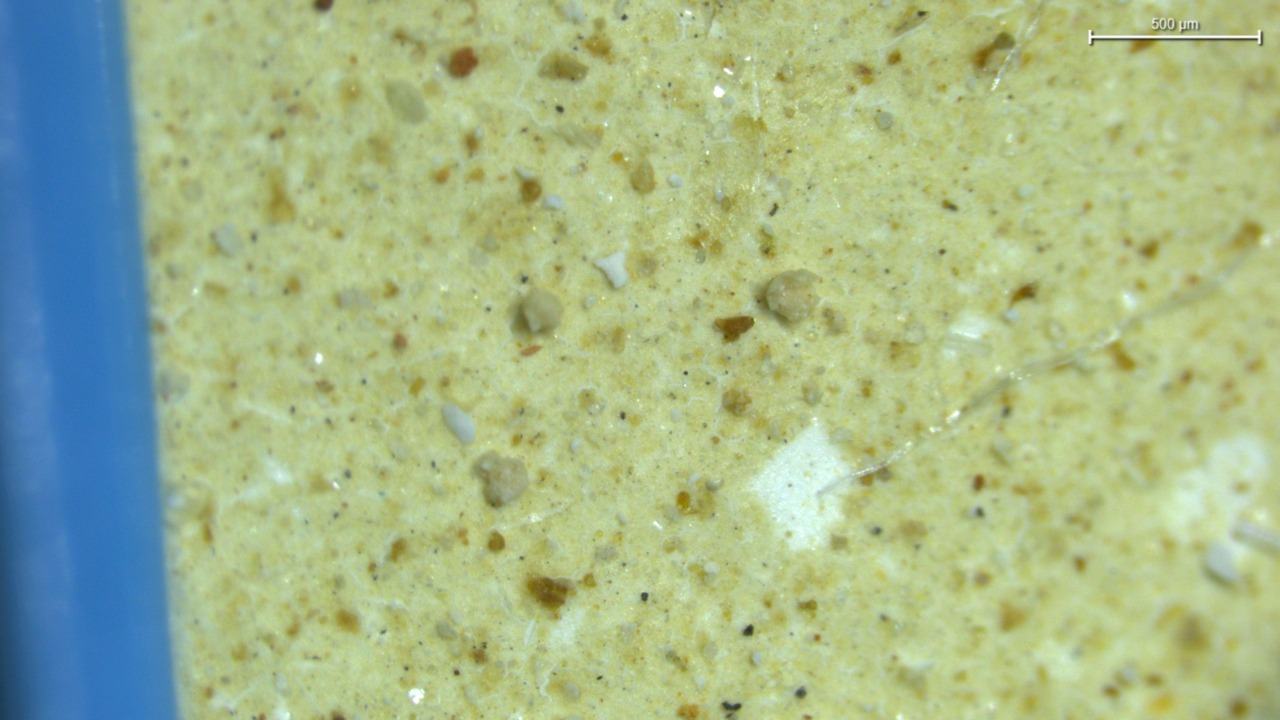microplastic_fragment: (762, 271, 828, 331), (479, 460, 529, 509), (524, 290, 561, 334), (443, 404, 477, 448)
